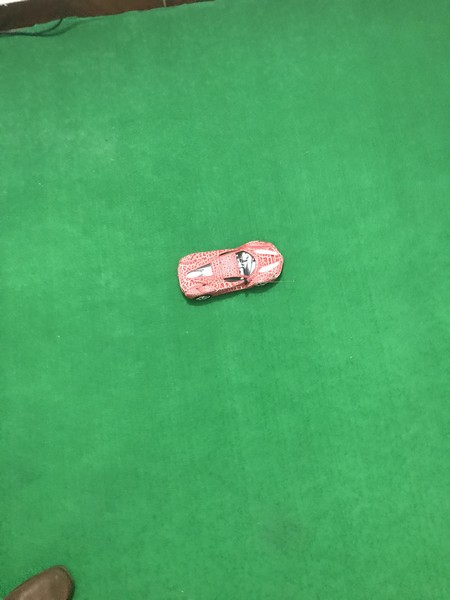RC: (174, 238, 285, 304)
